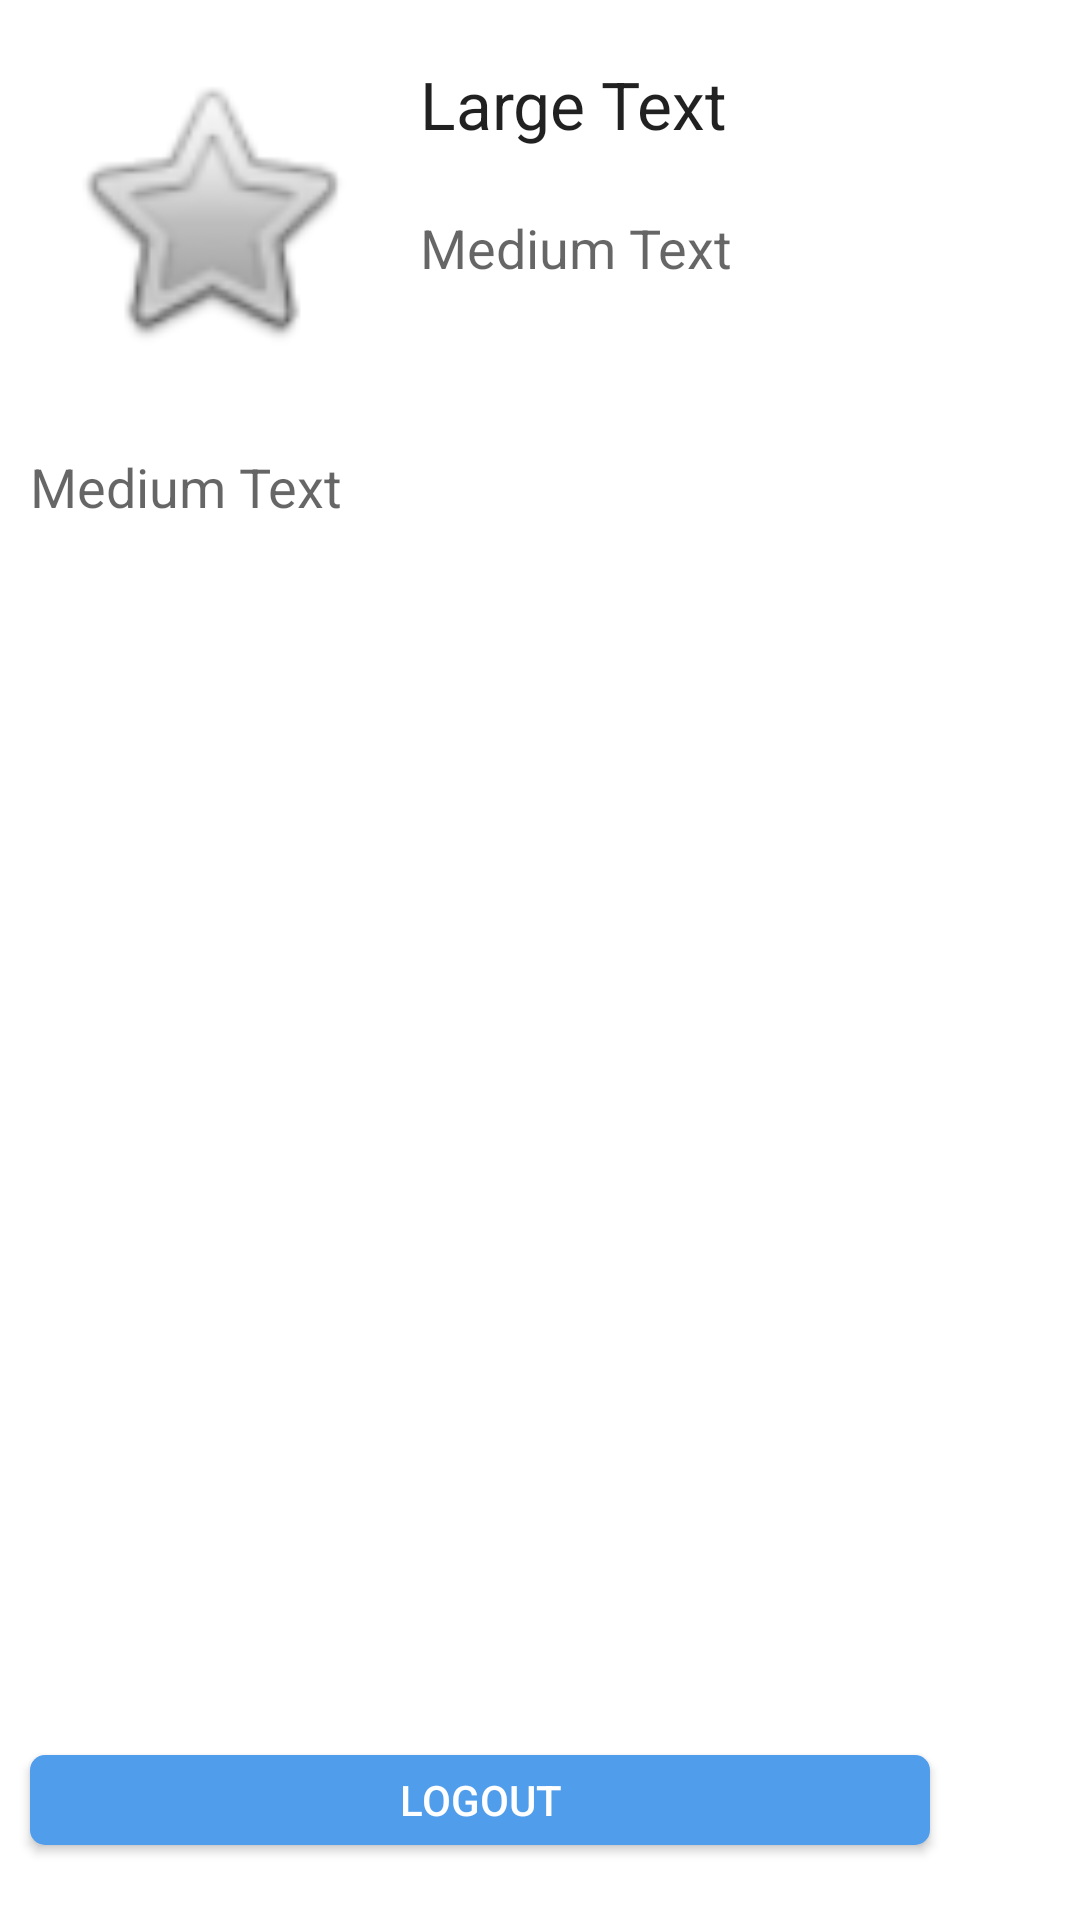

Icons on this 1080px×1920px Android screen, each with its box as (x1, y1, x2, y2):
star: (87, 90, 338, 335)
